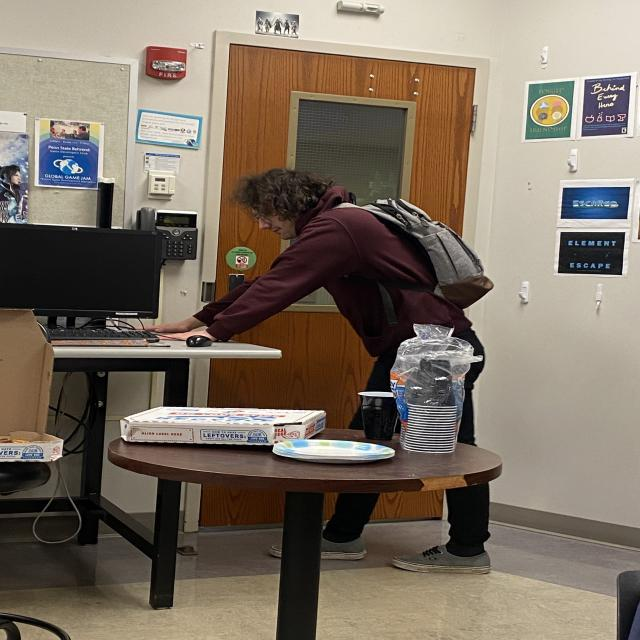Backpacks: (370, 194, 500, 310)
